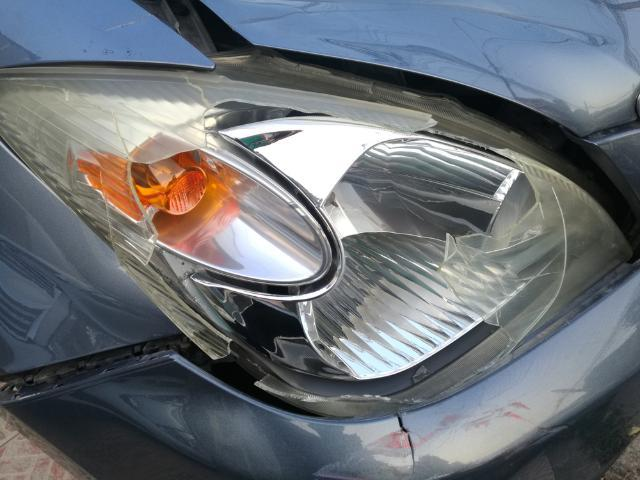crack: (395, 414, 416, 471)
dislocated part: (135, 0, 640, 256)
lamp broken: (0, 66, 634, 418)
scratch: (307, 390, 573, 480)
